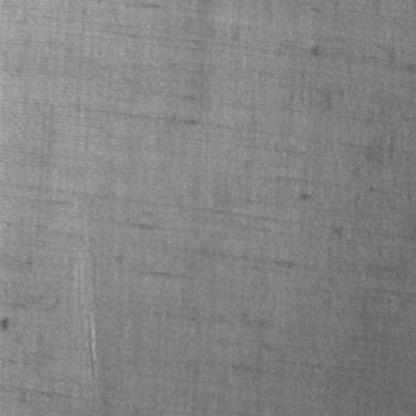thread error: (72, 236, 102, 390)
